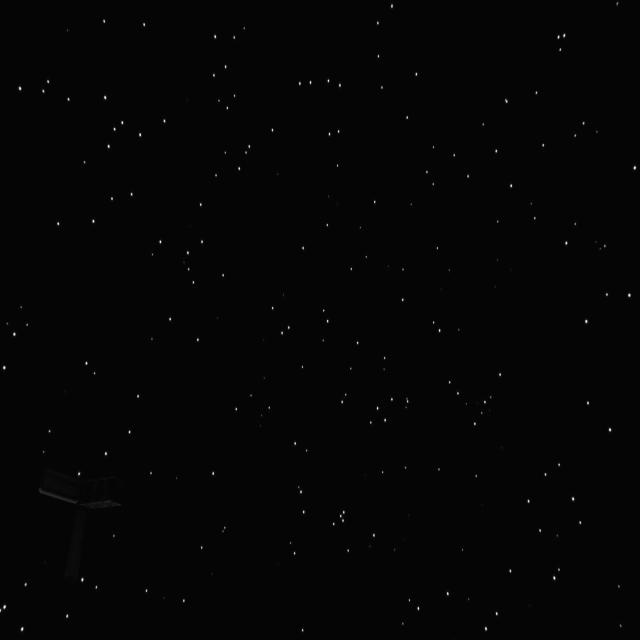satellite: (31, 458, 126, 593)
